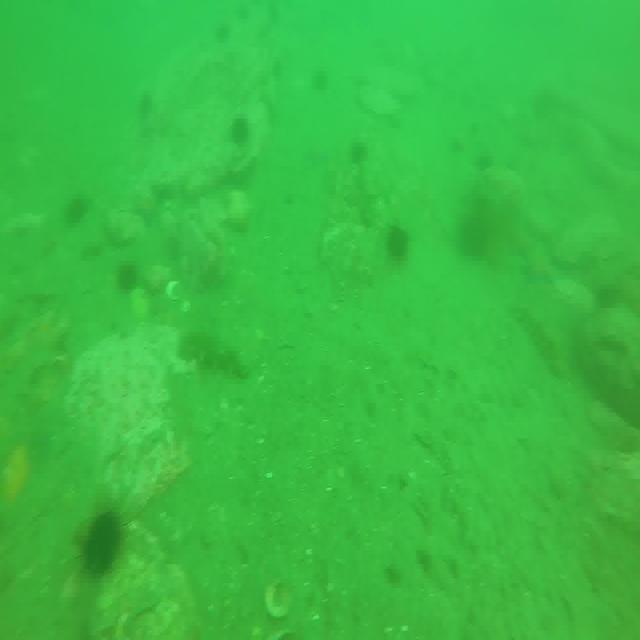echinus: (81, 505, 123, 576), (459, 208, 489, 262), (387, 222, 410, 260), (115, 254, 139, 288), (64, 196, 86, 227), (230, 114, 250, 144), (348, 142, 371, 164), (140, 84, 154, 120), (215, 16, 234, 38)
holothurian: (512, 297, 563, 383), (180, 327, 249, 378)
